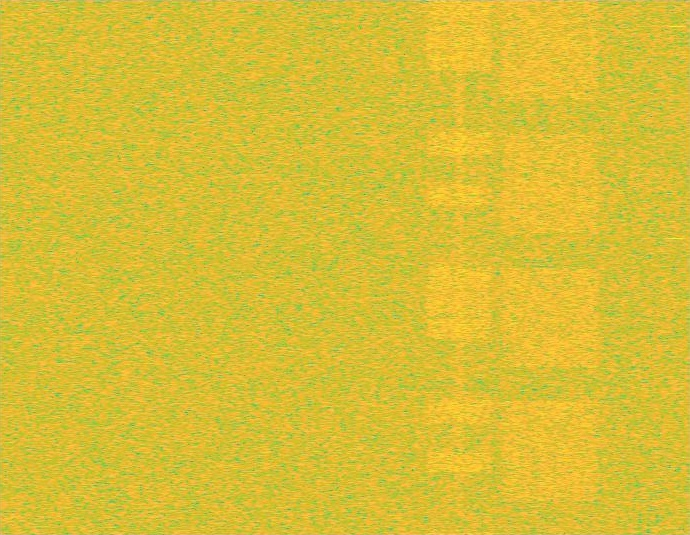5G: (499, 0, 602, 534)
DSSS: (455, 0, 464, 534)
LTE: (425, 0, 494, 534)
Radar: (669, 0, 682, 534)
